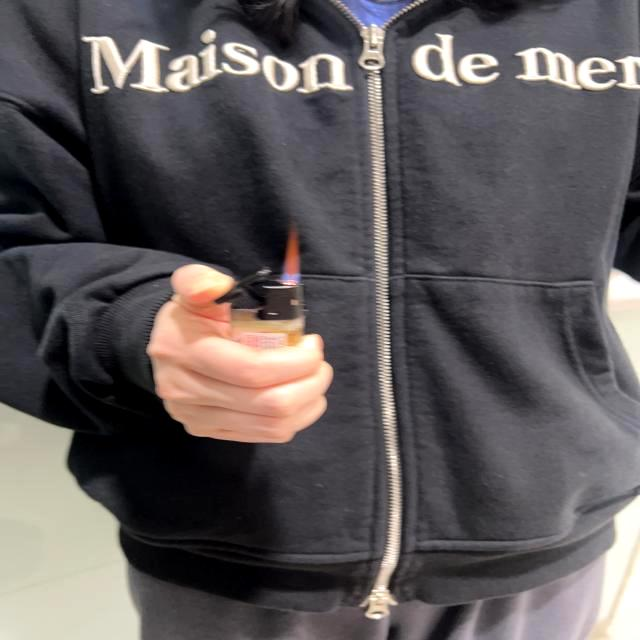fire: (282, 223, 306, 283)
